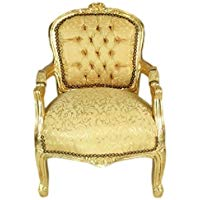chairs: (31, 3, 167, 199)
